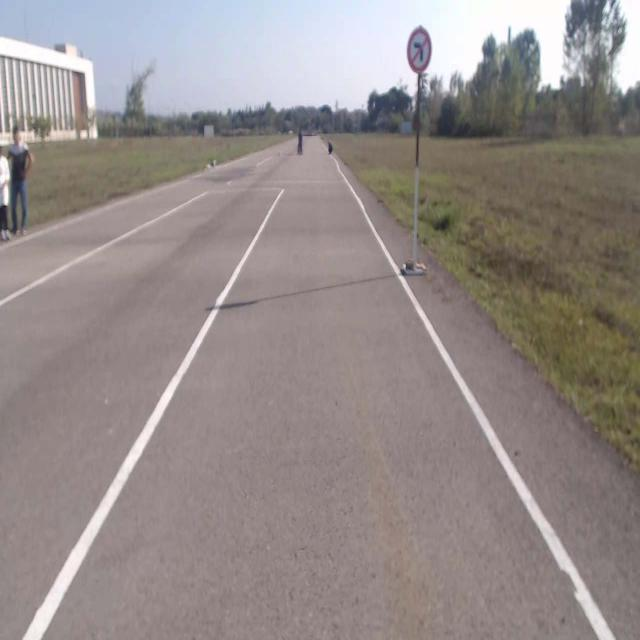soladonulmez: (407, 27, 431, 72)
